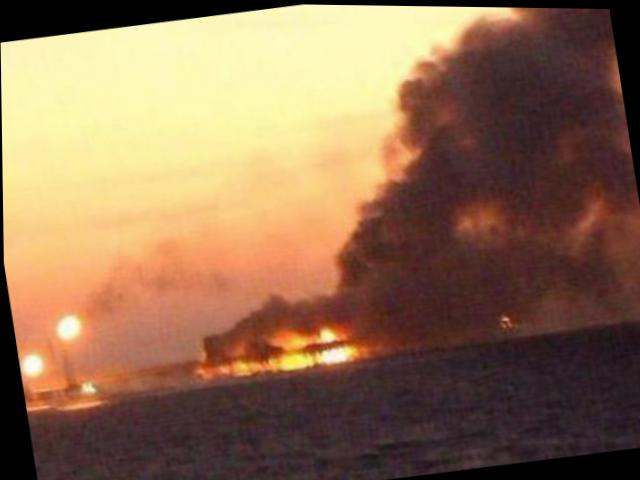fire: (272, 342, 357, 372), (276, 322, 341, 347), (225, 356, 275, 375)
